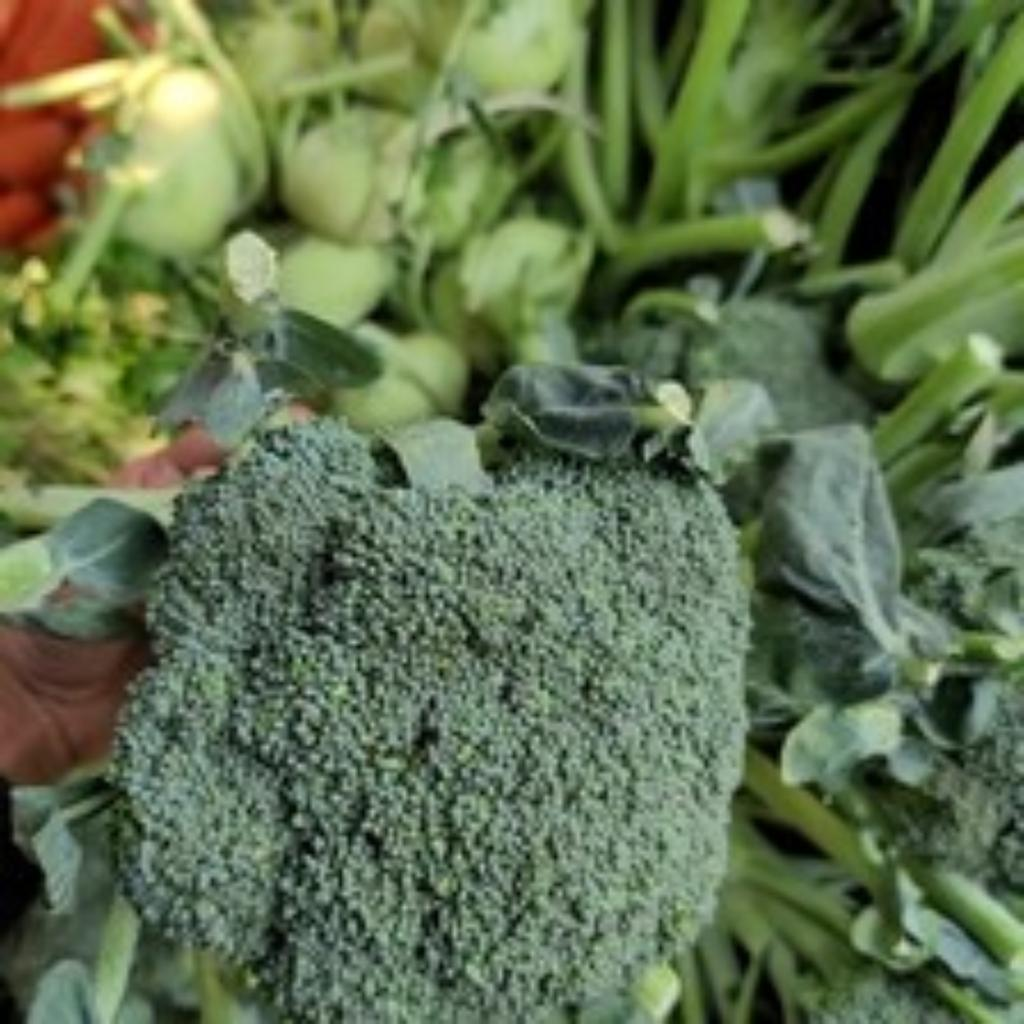Broccoli: (116, 428, 746, 1024), (118, 426, 744, 1024)
